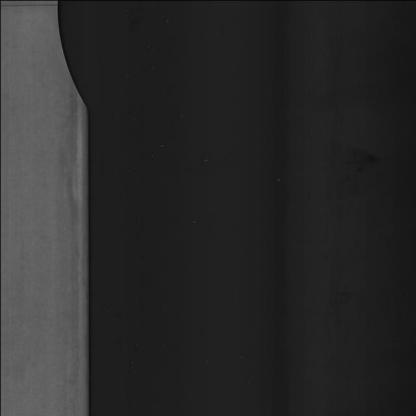crescent_gap: (46, 0, 105, 114)
